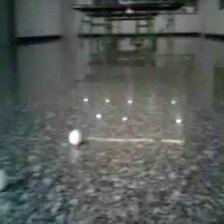w: (67, 129, 81, 146)
